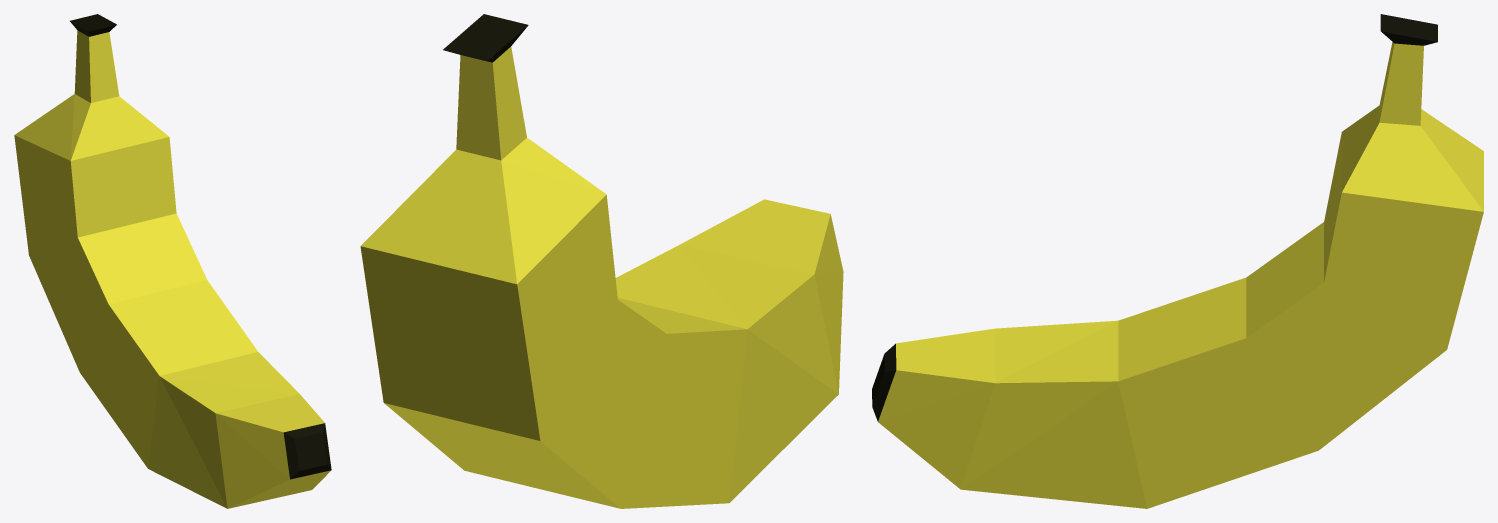
File: Banana.dae
The picture shows the model from 3 angles, left to right: view 1: azimuth 30°, elevation 25°; view 2: azimuth 150°, elevation 25°; view 3: azimuth 270°, elevation 25°; orthographic projection. The views are drawn at different scales.
Parts seen in each view (by area): view 1: Banana; view 2: Banana; view 3: Banana.
Boxes of the visible parts, x1=… form: Banana: x1=14, y1=14, x2=331, y2=508; Banana: x1=360, y1=14, x2=843, y2=508; Banana: x1=872, y1=14, x2=1483, y2=508.
Bounding box in the file's own units: 2 × 8.52 × 6.99.
